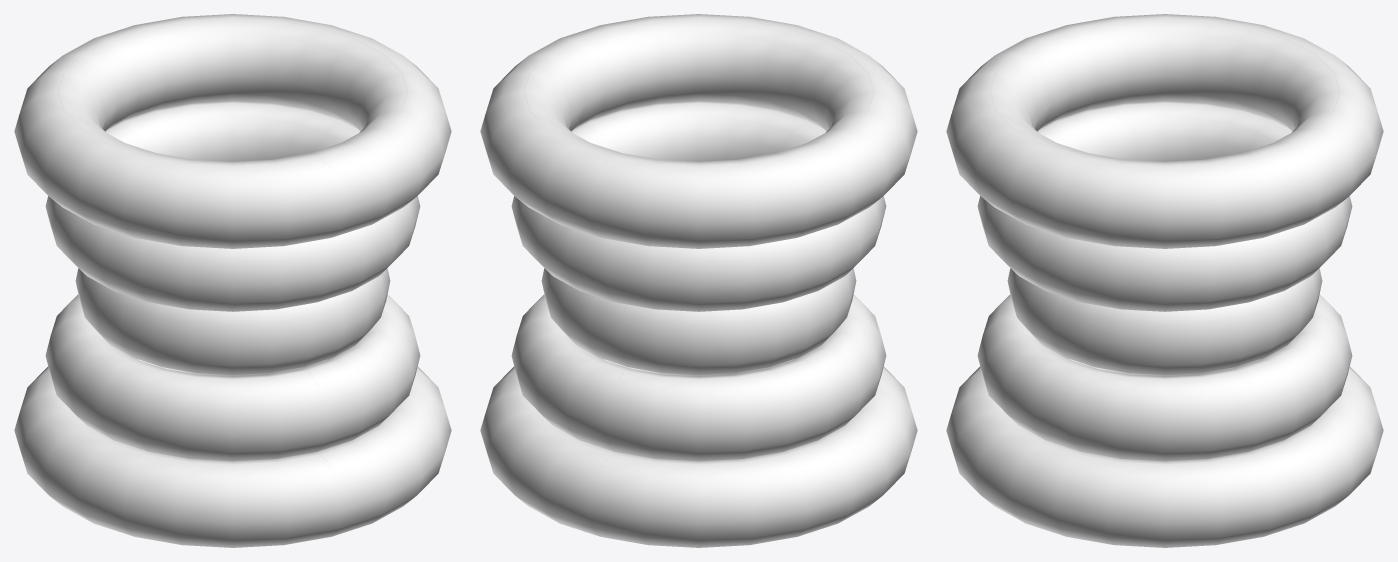
Rendered from spring.glb.
3 renders of one model, left to right at view 1: azimuth 30°, elevation 25°; view 2: azimuth 150°, elevation 25°; view 3: azimuth 270°, elevation 25°, orthographic.
Visible parts, largest first — view 1: Torus.002; view 2: Torus.002; view 3: Torus.002.
Part boxes in pixels (x1,y1,x2,y2): Torus.002: (14,14,451,547); Torus.002: (480,14,917,547); Torus.002: (946,14,1383,547).
Bounding box in the file's own units: 1.59 × 1.52 × 1.59.
1 material, 1 textured.
